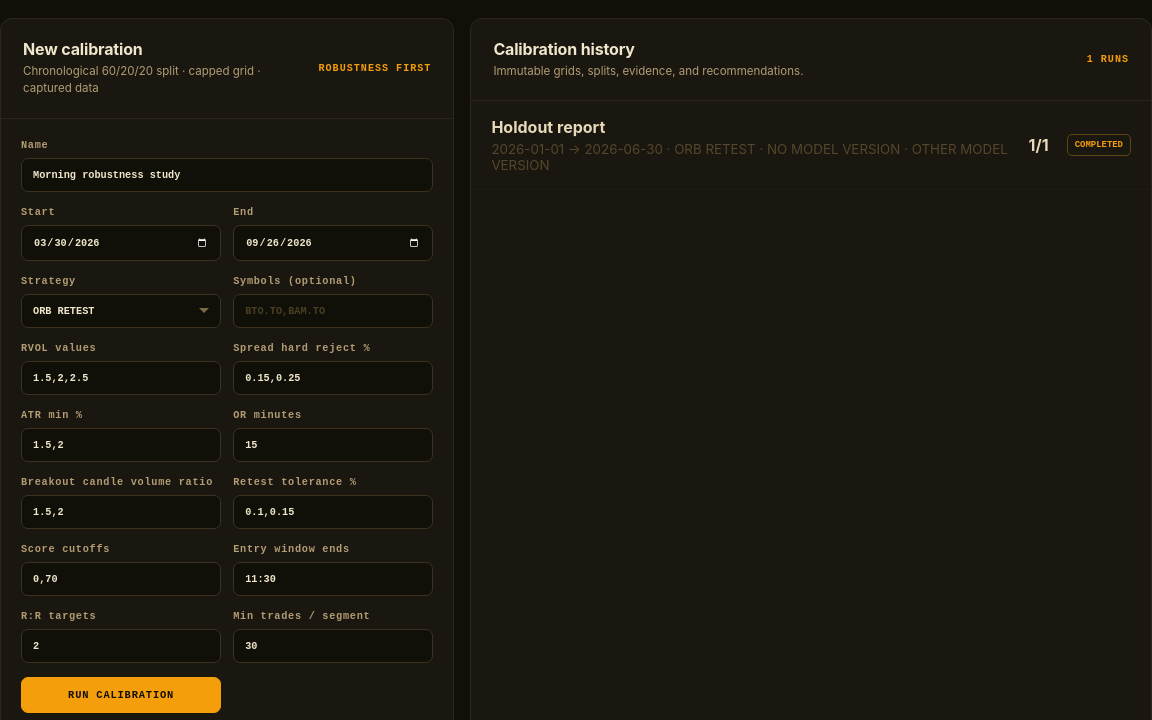
Calibration holdout presentation › renders unevaluated TEST explicitly and preserves legacy metrics (legacy=false)
Click the button "Holdout report": click(811, 146) 471,101 -> 1151,190
(page scrolled)
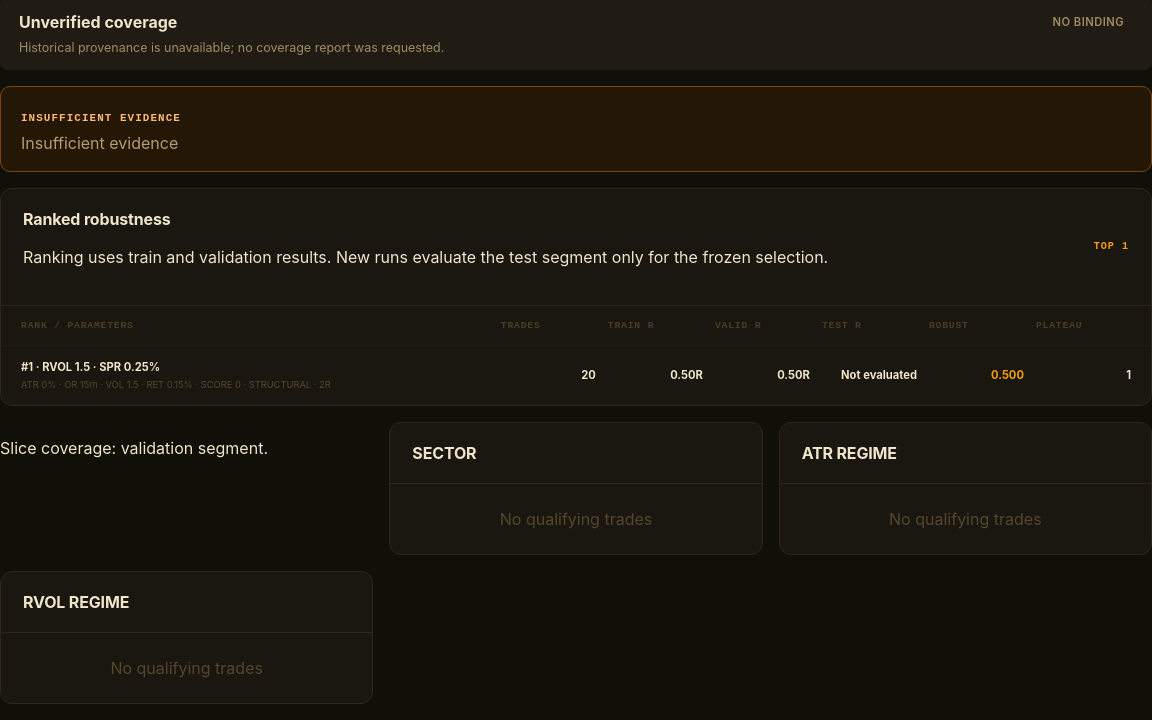
Result: the text "Slice coverage: validation segment." is shown at 0,438 -> 268,458
Result: the text "Not evaluated" is shown at 841,368 -> 917,382
Result: the text "0.50R" is shown 2 times at 670,368 -> 703,382; 777,368 -> 810,382
